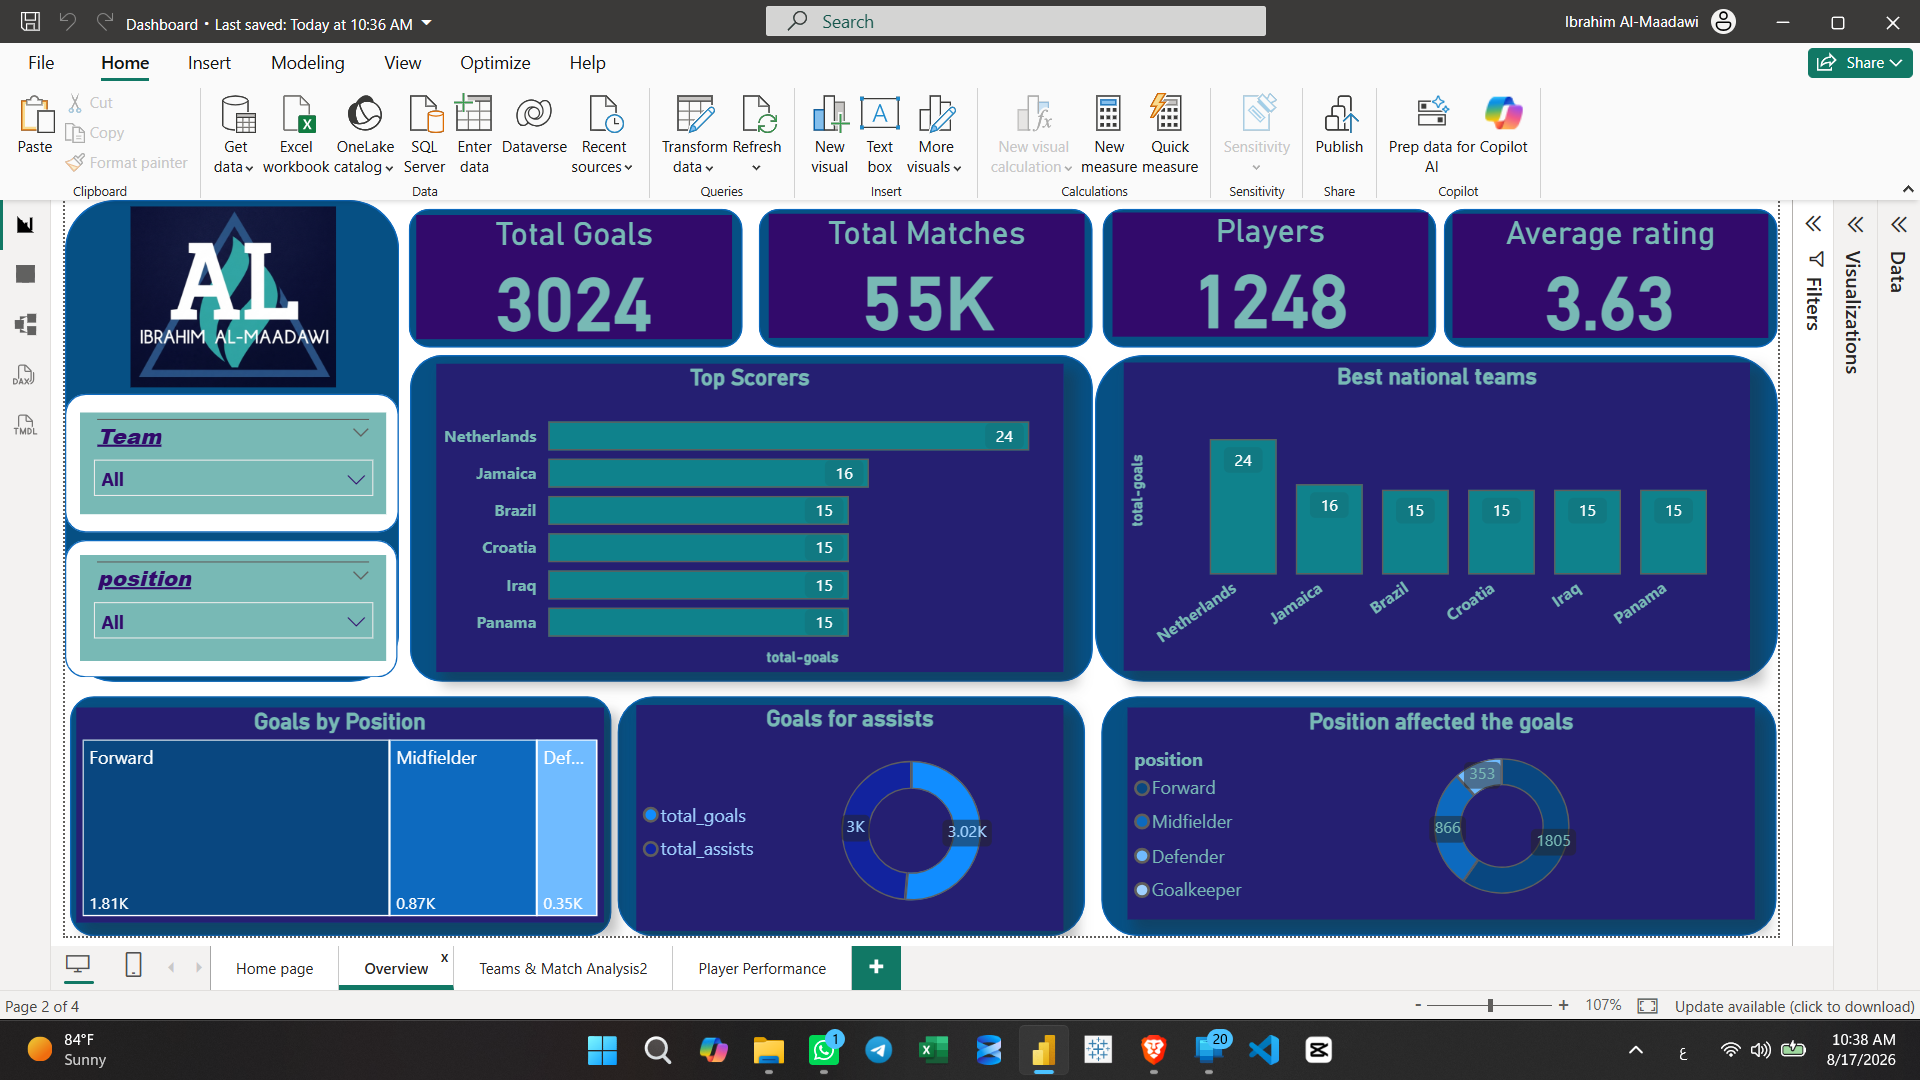

The dashboard page shown, as its layout file describes it:
{"tool":"powerbi","page":{"name":"Overview","canvas":[1280,550],"ordinal":1},"visuals":[{"type":"shape","box":[0,0,249.8,360.2],"z":0},{"type":"shape","box":[256.7,6.2,249.5,103.7],"z":1000},{"type":"shape","box":[518.4,6.2,249.5,103.7],"z":2000},{"type":"shape","box":[775.1,6.2,249.5,103.7],"z":3000},{"type":"shape","box":[1030.5,6.2,249.5,103.7],"z":4000},{"type":"shape","box":[257.7,116,510.2,244.3],"z":5000},{"type":"shape","box":[770,116,510.2,244.3],"z":6000},{"type":"shape","box":[412.6,371.3,349.4,179.3],"z":7000},{"type":"shape","box":[774.4,370.9,504.7,179.1],"z":8000},{"type":"card","title":"Total Goals","fields":{"Values":["vw_player_tournament_master.Measure"]},"box":[262.8,11.6,236,93],"z":9000},{"type":"card","title":"Total Matches","fields":{"Values":["vw_player_tournament_master.Total Matches Played"]},"box":[525.6,10.5,236,93],"z":10000},{"type":"card","title":"Players","fields":{"Values":["vw_player_tournament_master.Total Players Count"]},"box":[782.6,9.3,236,93],"z":11000},{"type":"card","title":"Average rating","fields":{"Values":["vw_player_tournament_master.Avg Tournament Rating"]},"box":[1037.2,10.5,236,93],"z":12000},{"type":"shape","box":[0,144.8,249.4,103.7],"z":13000},{"type":"shape","box":[0,254.1,248.5,102.8],"z":14000},{"type":"slicer","fields":{"Values":["vw_player_tournament_master.team"]},"box":[11.2,158.8,228.9,75.7],"z":15000},{"type":"slicer","fields":{"Values":["vw_player_tournament_master.position"]},"box":[11.2,265.3,228.9,79.4],"z":16000},{"type":"clusteredBarChart","title":"Top Scorers","fields":{"Category":["vw_player_tournament_master.team"],"Y":["Sum(vw_player_tournament_master.total_goals)"]},"box":[277.4,122.4,468.9,230.7],"z":17000},{"type":"clusteredColumnChart","title":"Best national teams","fields":{"Category":["vw_player_tournament_master.team"],"Y":["Sum(vw_player_tournament_master.total_goals)"]},"box":[791.3,121.3,468.3,230.5],"z":18000},{"type":"donutChart","title":"Goals for assists","fields":{"Y":["Sum(vw_player_tournament_master.total_goals)","Sum(vw_player_tournament_master.total_assists)"]},"box":[426.4,377,319.5,169],"z":19000},{"type":"donutChart","title":"Position affected the goals","fields":{"Category":["vw_player_tournament_master.position"],"Y":["Sum(vw_player_tournament_master.total_goals)"]},"box":[793.9,379.2,469,158.2],"z":20000},{"type":"shape","box":[3.4,370.7,404.6,179.3],"z":21000},{"type":"treemap","title":"Goals by Position","fields":{"Group":["vw_player_tournament_master.position"],"Values":["Sum(vw_player_tournament_master.total_goals)"]},"box":[8,379.3,394.3,160.9],"z":22000},{"type":"image","box":[23.4,0,205.5,144.8],"z":23000}]}

Visuals, with their boxes on the page's 1280x550 design canvas (x1, y1, x2, y2). These are canvas units, not pixel positions in the 1920x1080 screenshot, which may show the page scaled, cropped or inside an application window:
shape: <box>0,0,250,360</box>
shape: <box>257,6,506,110</box>
shape: <box>518,6,768,110</box>
shape: <box>775,6,1025,110</box>
shape: <box>1030,6,1280,110</box>
shape: <box>258,116,768,360</box>
shape: <box>770,116,1280,360</box>
shape: <box>413,371,762,551</box>
shape: <box>774,371,1279,550</box>
"Total Goals" card: <box>263,12,499,105</box>
"Total Matches" card: <box>526,10,762,104</box>
"Players" card: <box>783,9,1019,102</box>
"Average rating" card: <box>1037,10,1273,104</box>
shape: <box>0,145,249,248</box>
shape: <box>0,254,248,357</box>
slicer - vw_player_tournament_master.team: <box>11,159,240,234</box>
slicer - vw_player_tournament_master.position: <box>11,265,240,345</box>
"Top Scorers" clusteredBarChart: <box>277,122,746,353</box>
"Best national teams" clusteredColumnChart: <box>791,121,1260,352</box>
"Goals for assists" donutChart: <box>426,377,746,546</box>
"Position affected the goals" donutChart: <box>794,379,1263,537</box>
shape: <box>3,371,408,550</box>
"Goals by Position" treemap: <box>8,379,402,540</box>
image: <box>23,0,229,145</box>
